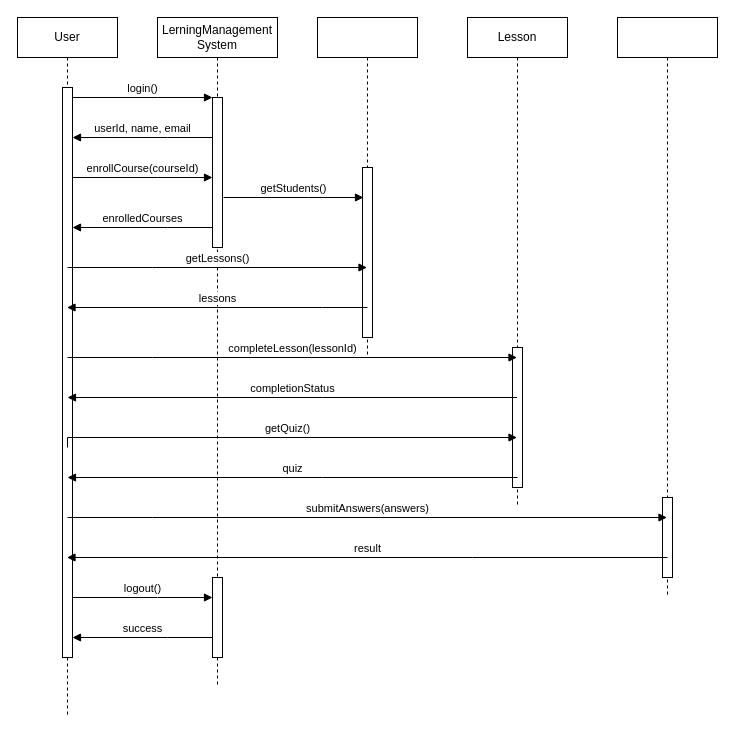
The diagram is 735 pixels wide and 735 high, and some of its shapes have lost their labels. The shapes that lost their labels are listed below. From the top down, each one's box as (x1, y1, x2, y2) in pixels, then its label:
(316, 16, 418, 358): Course
(616, 16, 718, 598): :Object
